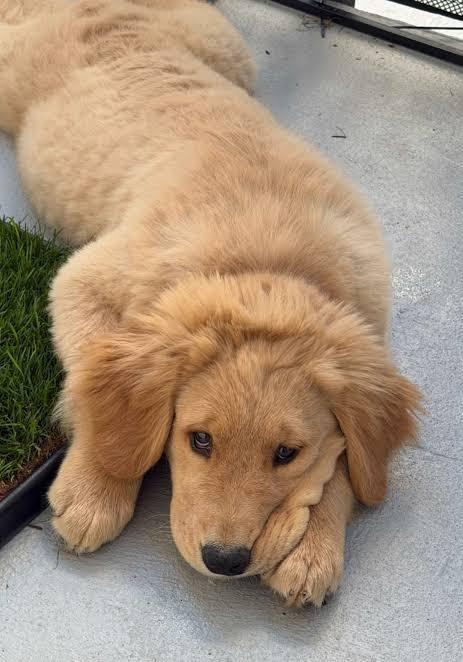puppy-dog: (2, 1, 423, 611)
